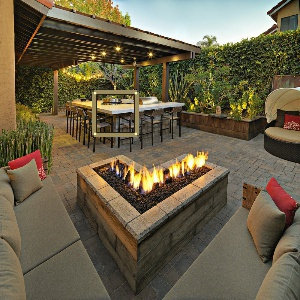square: (91, 87, 139, 138)
